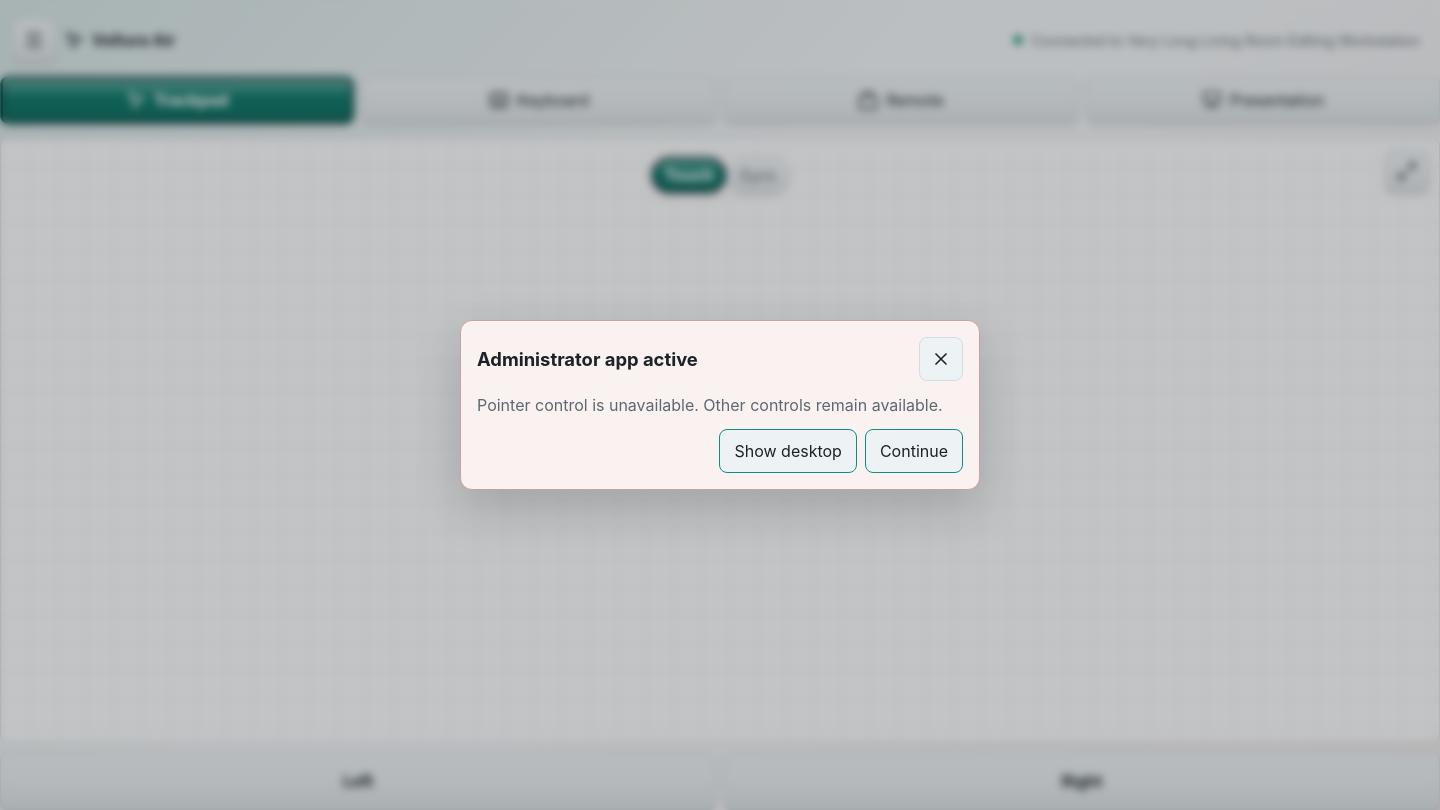
it: App header and mode navigation › clears the paused-input panel after input resumes following Continue
This screenshot has width=1440, height=810.
Click the button "Continue" at (914, 451), box [865, 429, 963, 473]
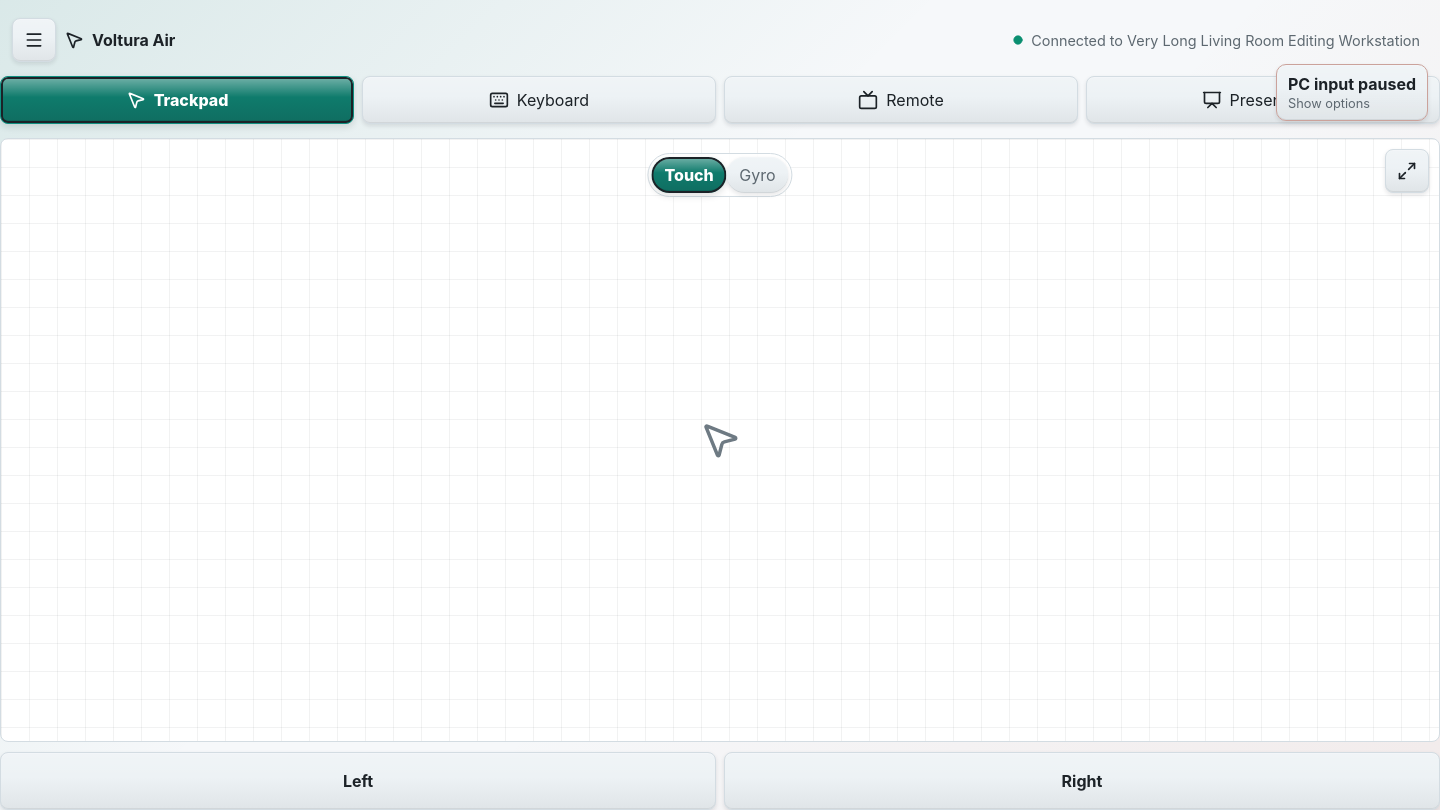
Result: the button with aria-label "PC input paused. Open recovery options." is shown at [1276, 64, 1428, 121]
